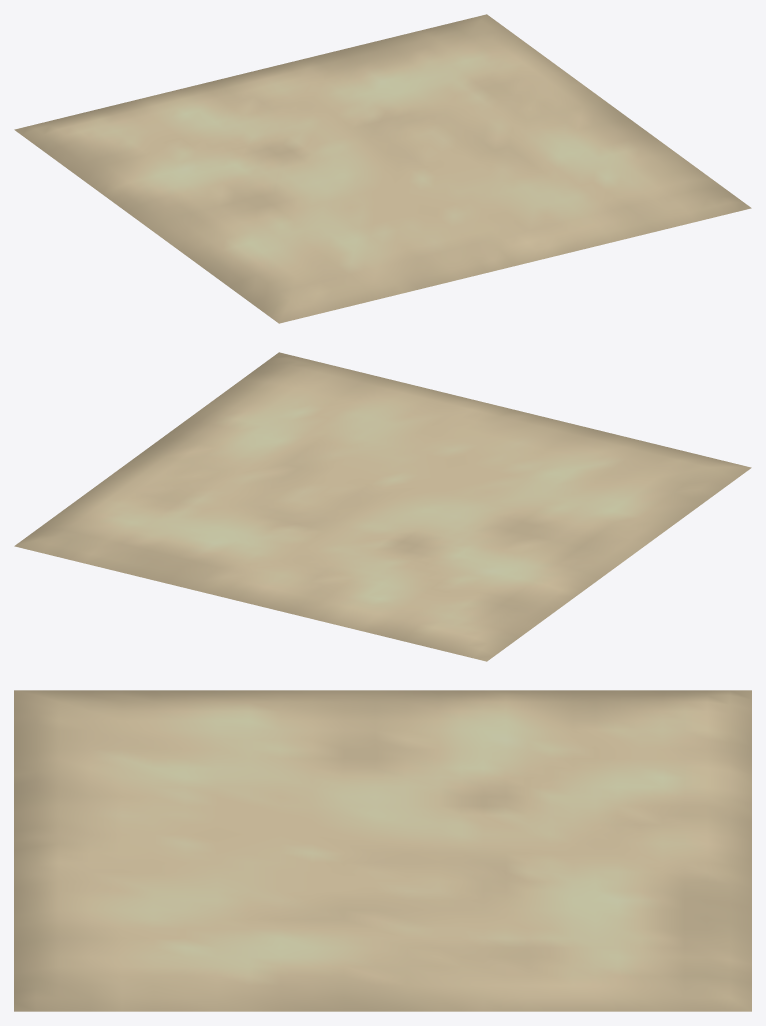
Rendered from Kit_Ground_Calm_Sand_01.glb.
3 views of the same model, one above another, from view 1: azimuth 30°, elevation 25°; view 2: azimuth 150°, elevation 25°; view 3: azimuth 270°, elevation 25° (orthographic). The views are drawn at different scales.
Parts seen in each view (by area): view 1: EX_GroundSand_Grass; view 2: EX_GroundSand_Grass; view 3: EX_GroundSand_Grass.
Part boxes in pixels (x1=…): EX_GroundSand_Grass: x1=14, y1=14, x2=751, y2=323; EX_GroundSand_Grass: x1=14, y1=352, x2=751, y2=661; EX_GroundSand_Grass: x1=14, y1=690, x2=751, y2=1011.
Size of what is drawn, in the model's own units: 34 by 0.35 by 33.
